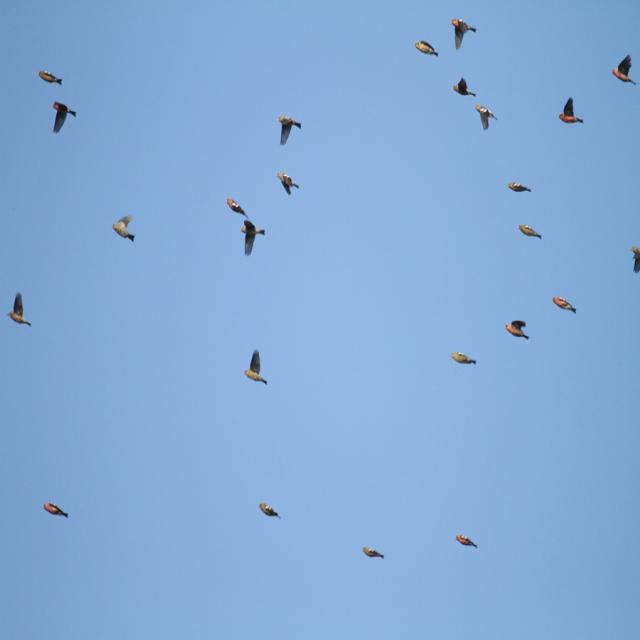bird: (236, 219, 265, 259), (450, 18, 480, 52), (242, 348, 268, 387), (557, 96, 587, 127), (52, 104, 80, 136), (278, 117, 305, 147), (610, 54, 636, 85), (8, 293, 33, 325), (111, 215, 137, 245), (473, 105, 499, 134), (275, 173, 299, 199), (505, 321, 531, 342), (451, 75, 474, 97), (223, 199, 248, 219), (42, 502, 70, 518), (413, 41, 438, 58), (552, 298, 577, 314), (259, 504, 282, 521), (517, 225, 543, 240), (39, 72, 65, 87), (450, 351, 480, 364), (456, 536, 479, 552), (362, 547, 386, 561), (507, 182, 532, 195), (629, 246, 639, 276)
